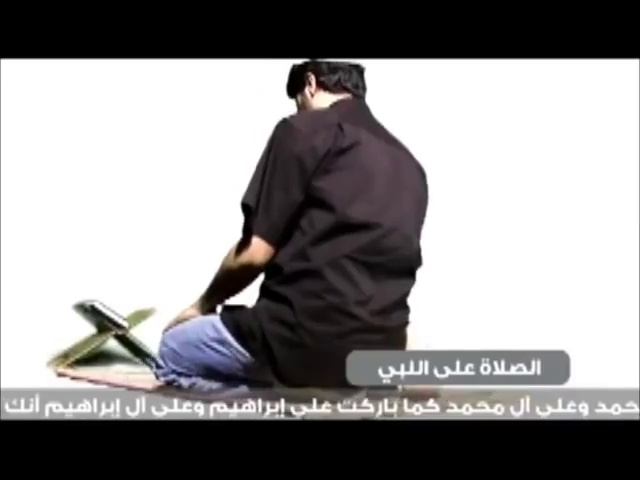sitting: (153, 59, 444, 402)
